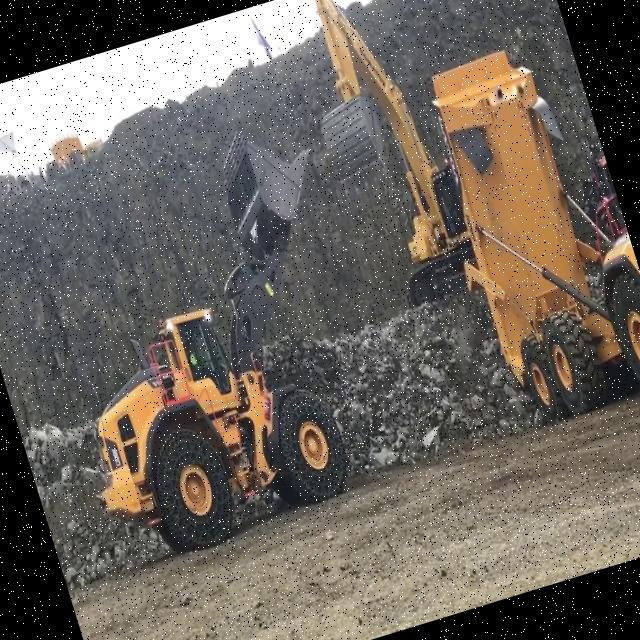Dump Truck: (418, 24, 640, 444)
Excavator: (278, 0, 483, 310)
Loader: (12, 116, 410, 573)
